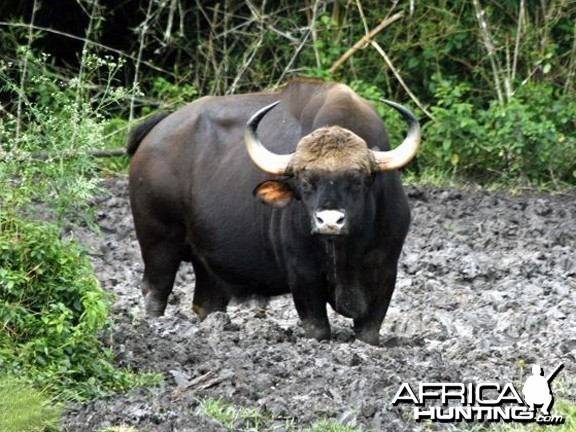bison: (119, 73, 426, 349)
